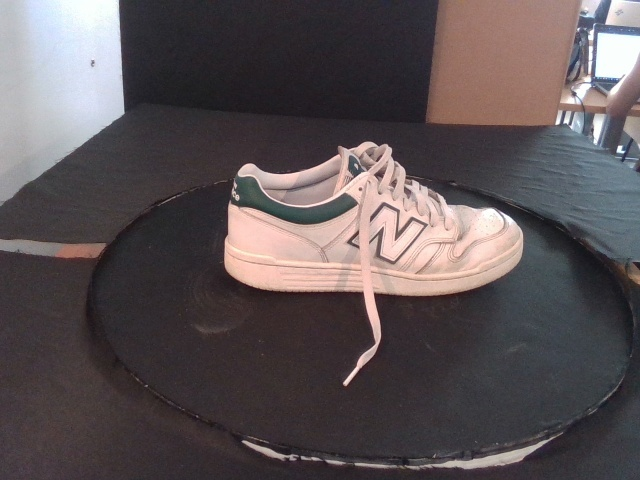shoe: (223, 143, 524, 298)
